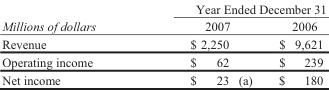table: (1, 0, 325, 88)
table column: (1, 0, 142, 88), (142, 0, 264, 88), (264, 0, 325, 88)
table column header: (1, 0, 325, 34)
table row: (1, 34, 325, 52), (1, 52, 325, 70), (1, 70, 325, 88), (1, 0, 325, 17), (1, 17, 325, 34)
table spanning cell: (1, 0, 142, 34), (142, 0, 325, 17)
